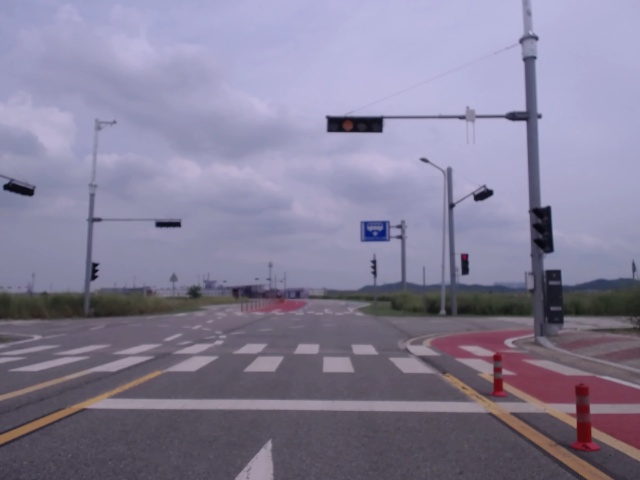orange_4: (327, 115, 383, 133)
